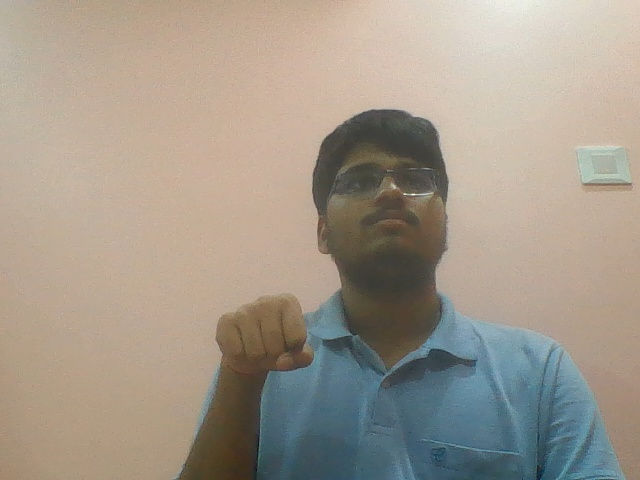yes: (200, 288, 318, 421)
